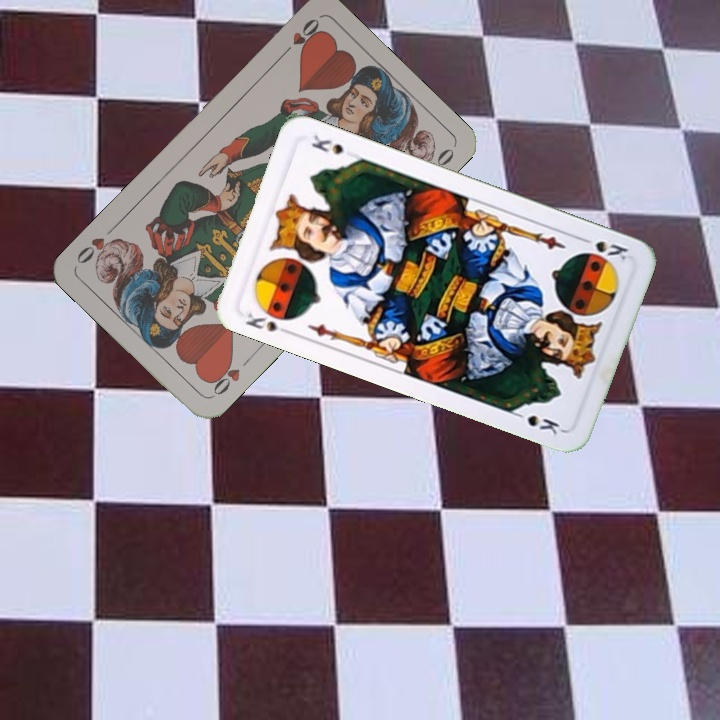HO: (205, 352, 254, 400), (276, 14, 323, 61)
SK: (575, 232, 631, 263), (241, 309, 295, 337)
